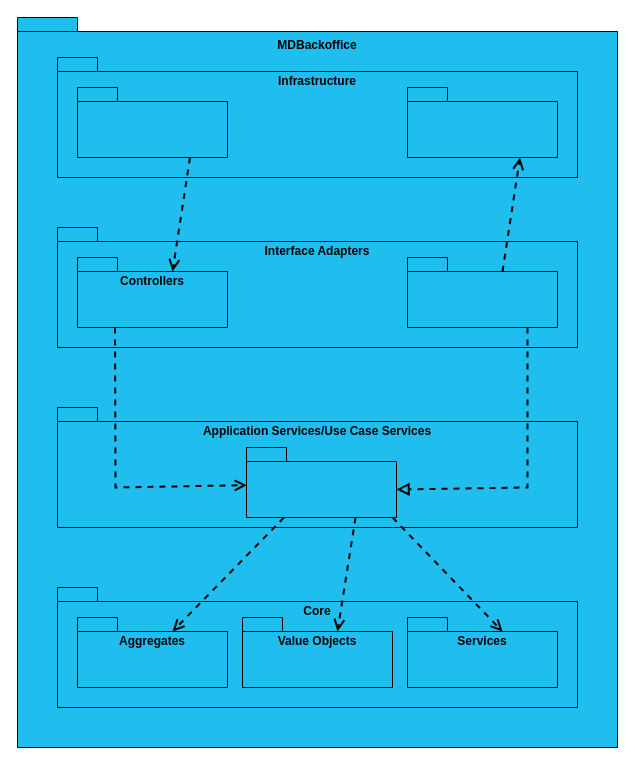
The diagram is 635 pixels wide and 765 high, and some of its shapes have lost their labels. Here are the shapes that lost their labels. From the top down, the centre of each, then its label:
At (x=152, y=122): "Routes".
At (x=482, y=122): "Persistence".
At (x=482, y=292): "Repositories".
At (x=321, y=482): "App Services".
